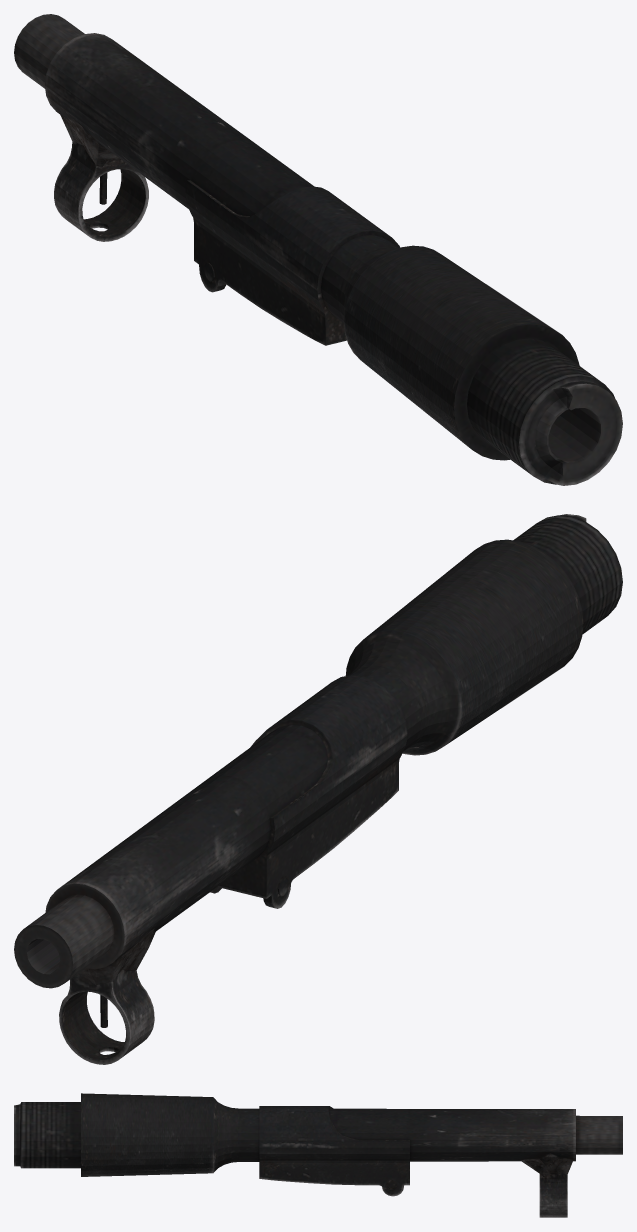
3 renders of one model, top to bottom at view 1: azimuth 30°, elevation 25°; view 2: azimuth 150°, elevation 25°; view 3: azimuth 270°, elevation 25°, orthographic. The views are drawn at different scales.
Visible parts, largest first — view 1: TW_5bfd4cd60db834001c38f095_PZ_Import; view 2: TW_5bfd4cd60db834001c38f095_PZ_Import; view 3: TW_5bfd4cd60db834001c38f095_PZ_Import.
Part boxes in pixels (x1,y1,x2,y2): TW_5bfd4cd60db834001c38f095_PZ_Import: (14, 14, 622, 485); TW_5bfd4cd60db834001c38f095_PZ_Import: (14, 514, 622, 1064); TW_5bfd4cd60db834001c38f095_PZ_Import: (14, 1093, 622, 1217).
Size of the model in its own units: 0.0173 by 0.126 by 0.0271.
Materials: 1 (1 with a texture image).
